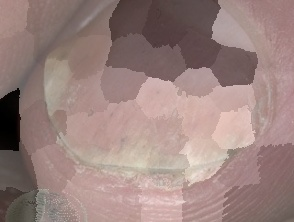Nail_psoriasis: (25, 0, 294, 217)
